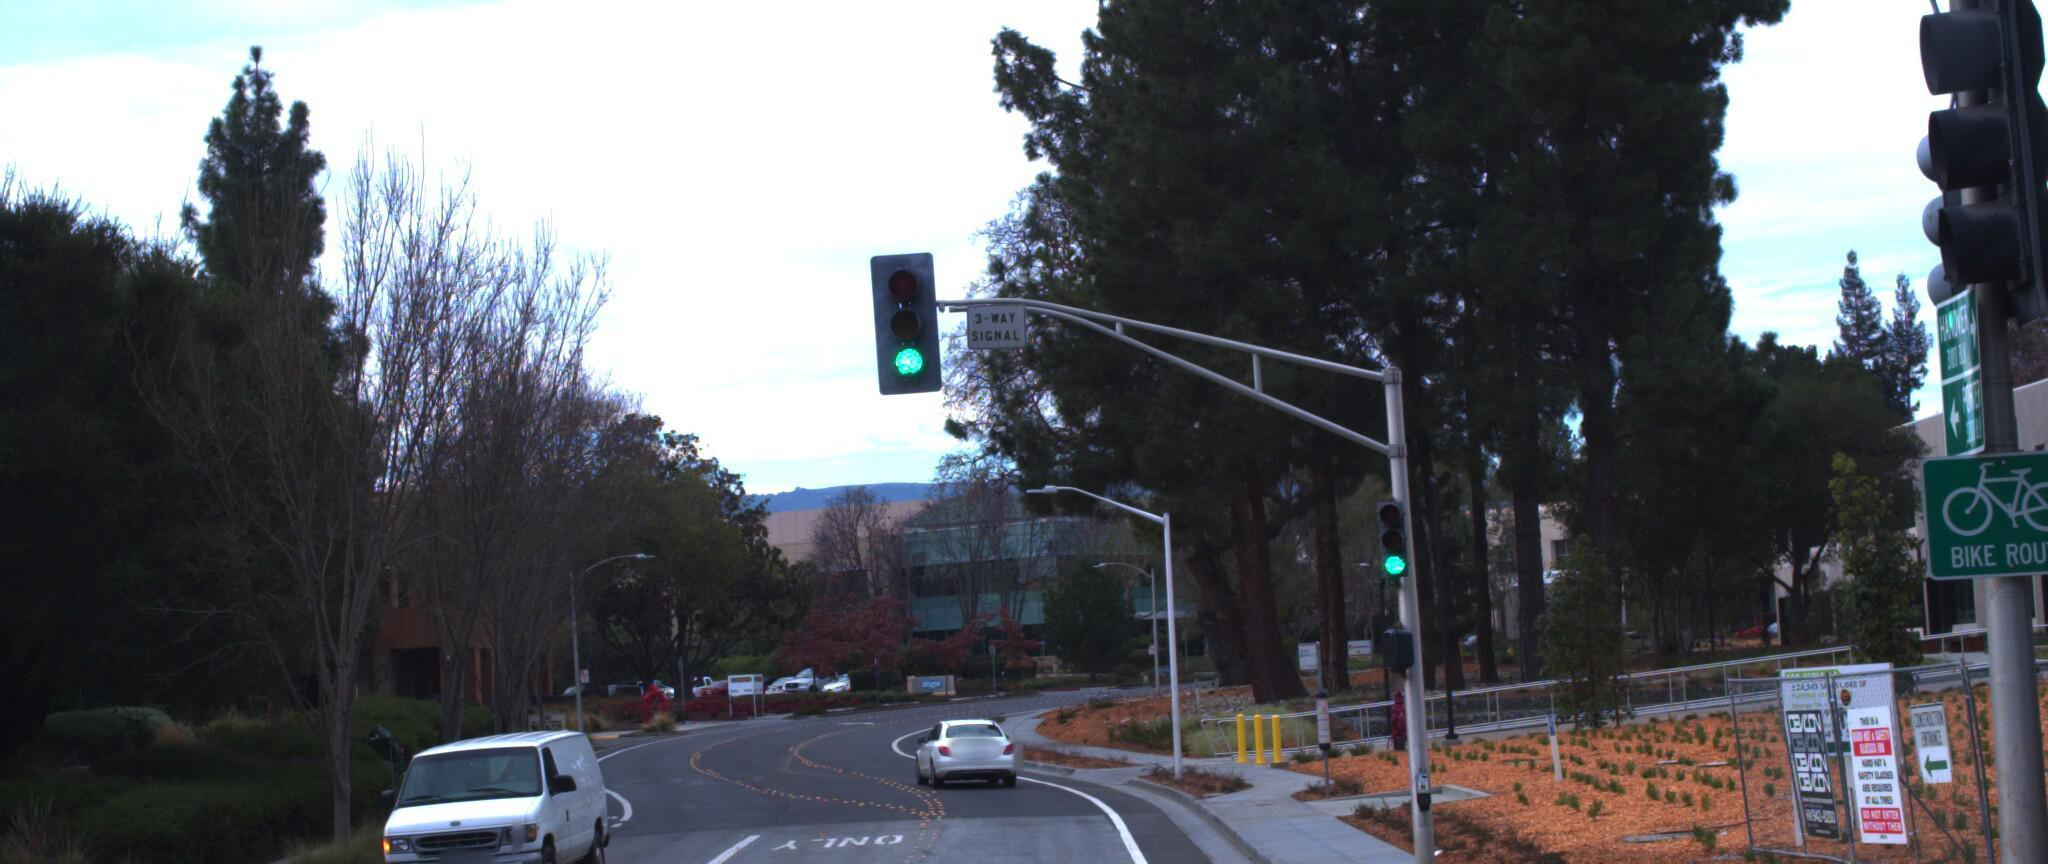car: (347, 719, 623, 864), (905, 711, 1014, 794)
